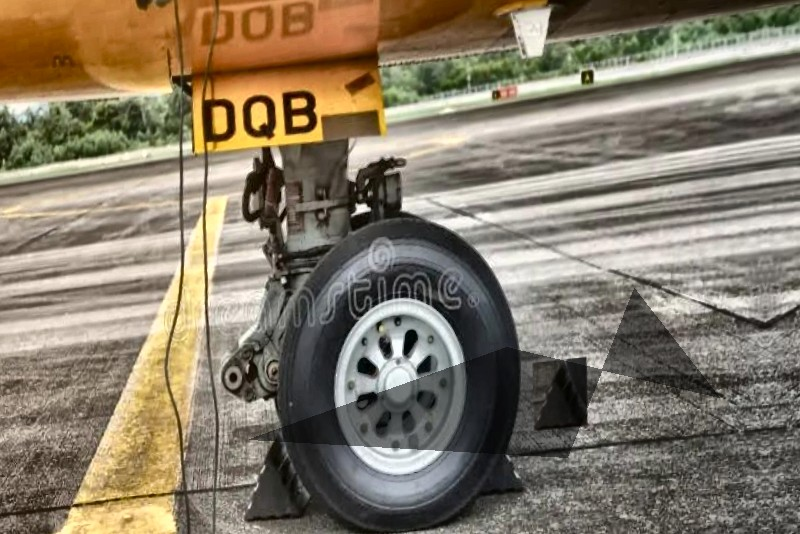chock: (235, 428, 316, 524), (526, 357, 594, 431)
wheel: (245, 194, 550, 534)
